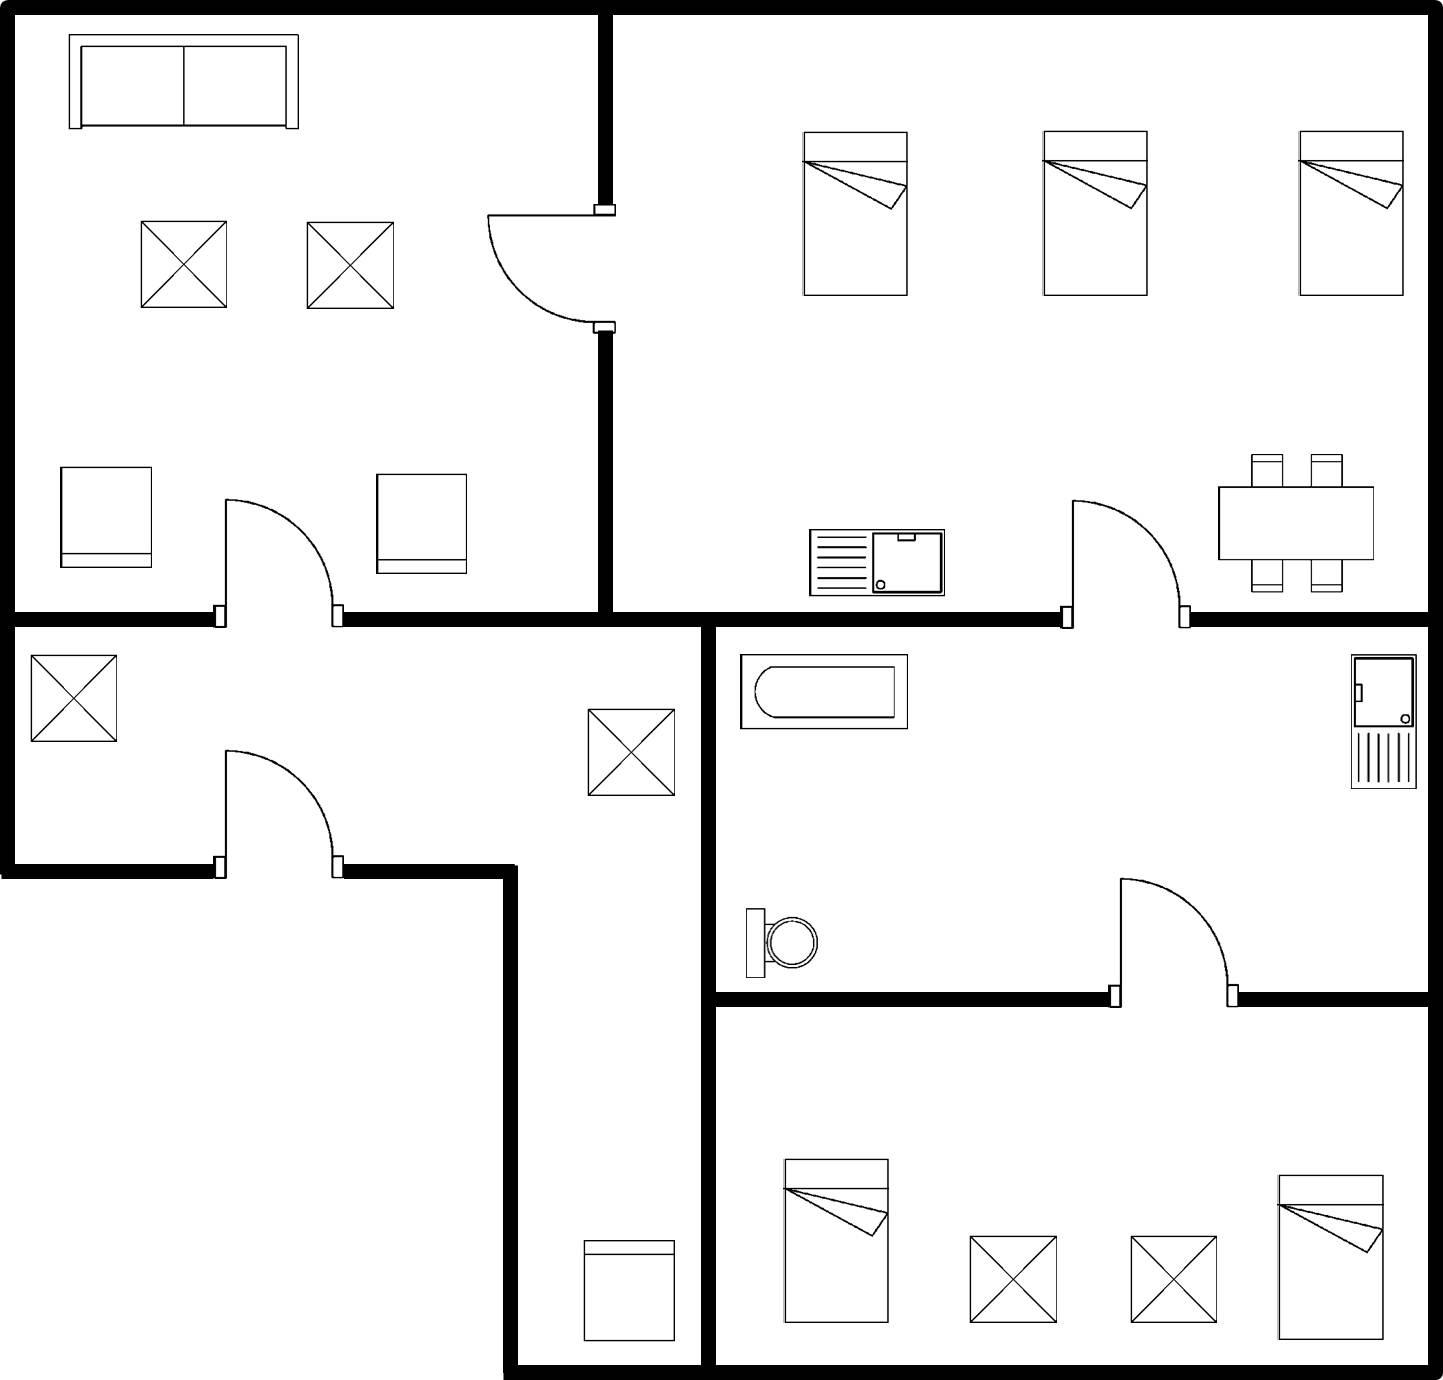bed: (1263, 1160, 1397, 1349), (788, 119, 922, 305), (773, 1145, 901, 1332), (1031, 119, 1156, 305), (1288, 119, 1413, 305)
dining_table: (1201, 445, 1391, 600)
sink: (796, 517, 957, 607), (1339, 644, 1426, 798)
sofa: (58, 23, 311, 142)
toilet: (734, 898, 822, 987)
tub: (729, 644, 916, 741)
